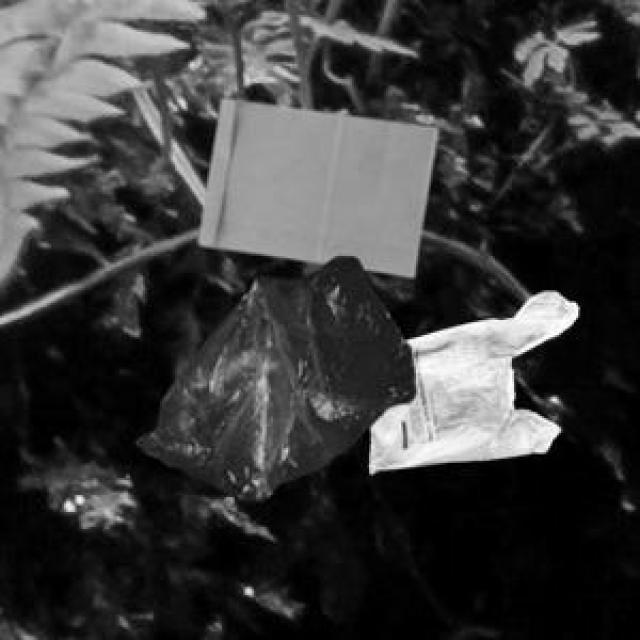paper: (194, 96, 433, 273)
